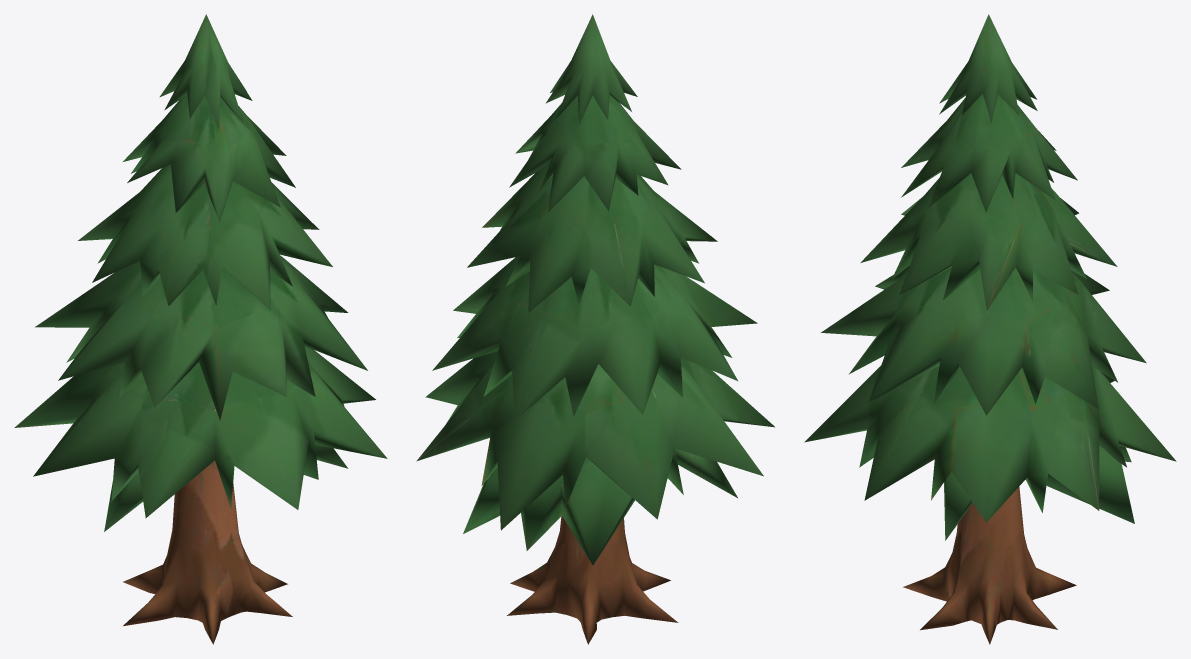
Rendered from tree-variety-a.glb.
3 renders of one model, left to right at view 1: azimuth 30°, elevation 25°; view 2: azimuth 150°, elevation 25°; view 3: azimuth 270°, elevation 25°, orthographic.
Parts seen in each view (by area): view 1: mesh_node; view 2: mesh_node; view 3: mesh_node.
Boxes of the visible parts, <box> form: mesh_node: <box>14,14,387,644</box>; mesh_node: <box>416,14,774,644</box>; mesh_node: <box>804,14,1176,644</box>.
Bounding box in the file's own units: 0.6054 × 1 × 0.5722.
Materials: 1 (1 with a texture image).
